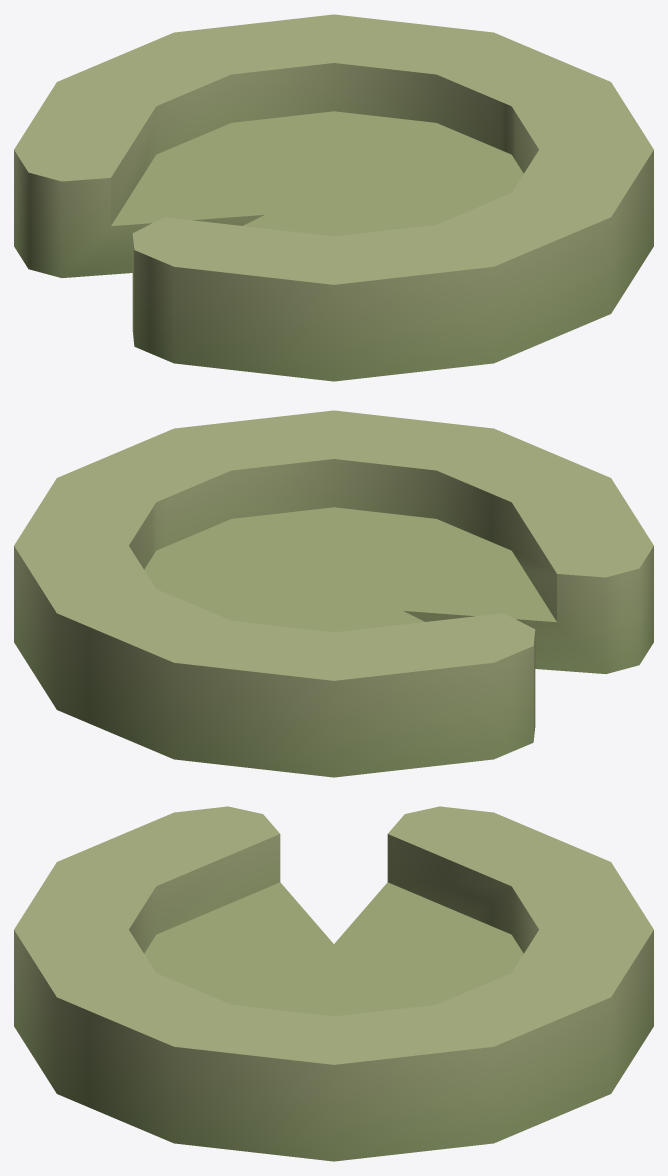
The model's file is organic-lilypad-open.glb.
The picture shows the model from 3 angles, top to bottom: view 1: azimuth 30°, elevation 25°; view 2: azimuth 150°, elevation 25°; view 3: azimuth 270°, elevation 25°; orthographic projection.
Parts seen in each view (by area): view 1: organic-lilypad-open; view 2: organic-lilypad-open; view 3: organic-lilypad-open.
Boxes of the visible parts, x1,y1,x2,y2 form: organic-lilypad-open: (14, 14, 653, 381); organic-lilypad-open: (14, 410, 653, 777); organic-lilypad-open: (14, 806, 653, 1161).
Size of the model in its own units: 0.1817 by 0.0317 by 0.1901.
